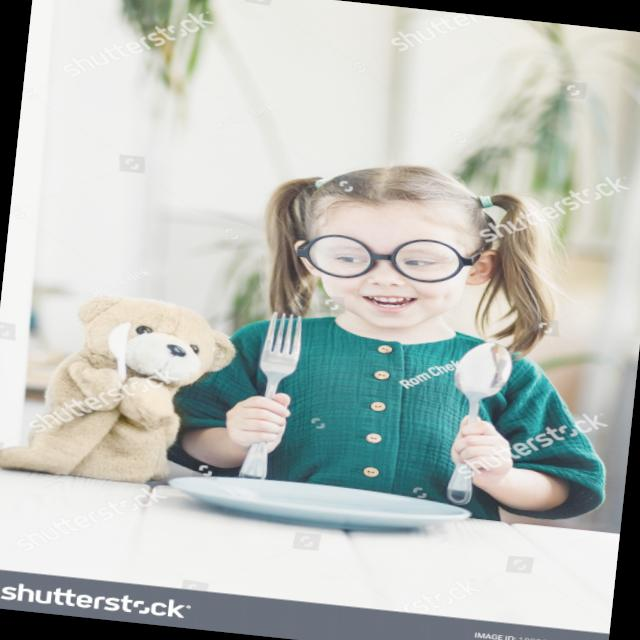fork: (232, 305, 314, 481)
